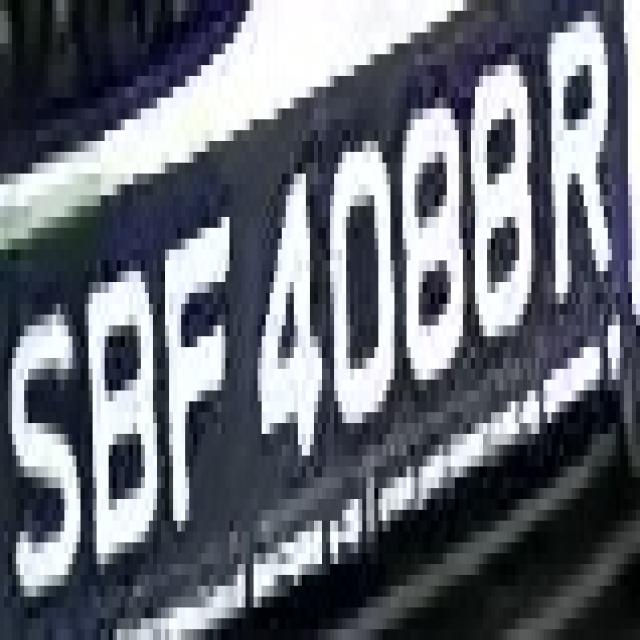0: (318, 108, 403, 434)
4: (246, 119, 322, 488)
8: (463, 43, 543, 358), (398, 87, 467, 423)
B: (81, 260, 165, 586)
F: (157, 195, 241, 564)
R: (535, 0, 623, 325)
S: (12, 260, 89, 640)
